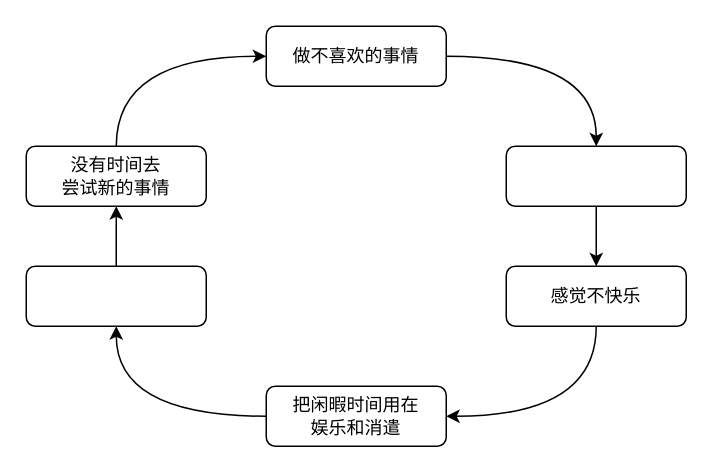
Image size: 713x473. Some labels were removed from this diagram. Here are the shapes that lost their labels. From the top down, the box of each, then its label:
(505, 145, 686, 206): 对生活没有激情
(25, 265, 206, 326): 时间都用来 消磨和打发了
